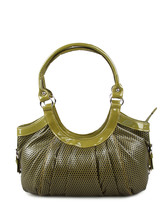bag: (9, 41, 161, 206)
